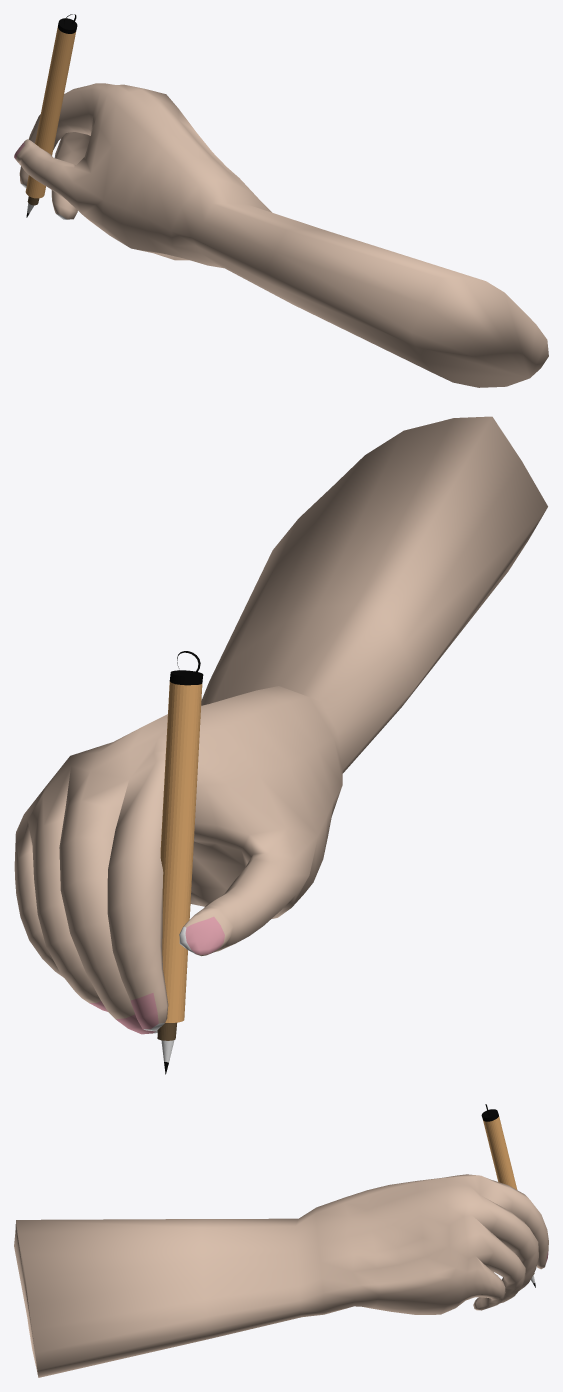
The model's file is Right_hand.fbx.
3 views of the same model, one above another, from view 1: azimuth 30°, elevation 25°; view 2: azimuth 150°, elevation 25°; view 3: azimuth 270°, elevation 25° (orthographic). The views are drawn at different scales.
Visible parts, largest first — view 1: 立方体; view 2: 立方体; view 3: 立方体.
Part boxes in pixels (x1=…): 立方体: x1=14, y1=14, x2=548, y2=387; 立方体: x1=14, y1=416, x2=547, y2=1074; 立方体: x1=14, y1=1104, x2=548, y2=1377.
Size of the model in its own units: 341 by 284 by 719.
